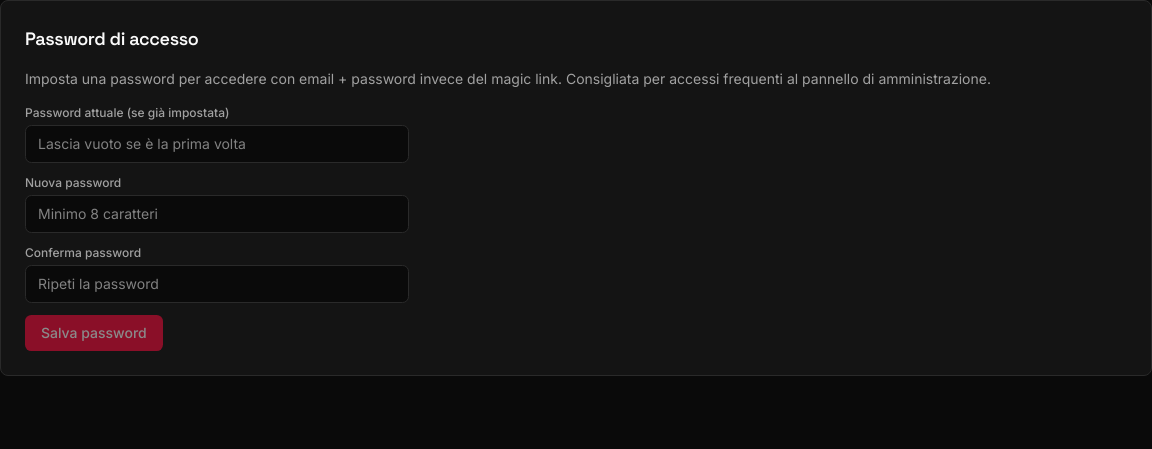
PasswordSetup › shows error message from API on failure
The image size is (1152, 449).
In the password field with placeholder "Minimo 8 caratteri": {"x": 217, "y": 214} x1=25 y1=195 x2=409 y2=233, type "newpassword123"
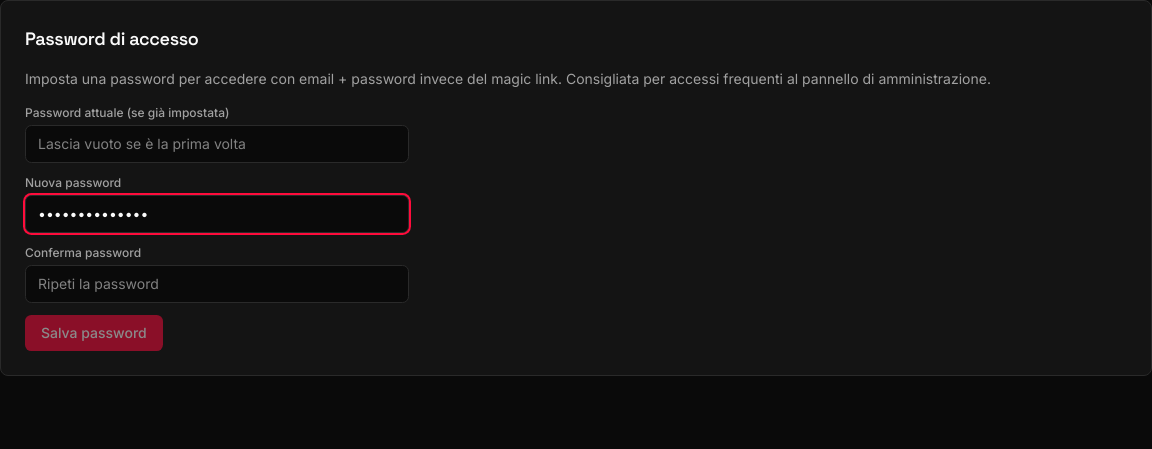
In the password field with placeholder "Ripeti la password": {"x": 217, "y": 284} x1=25 y1=265 x2=409 y2=303, type "newpassword123"
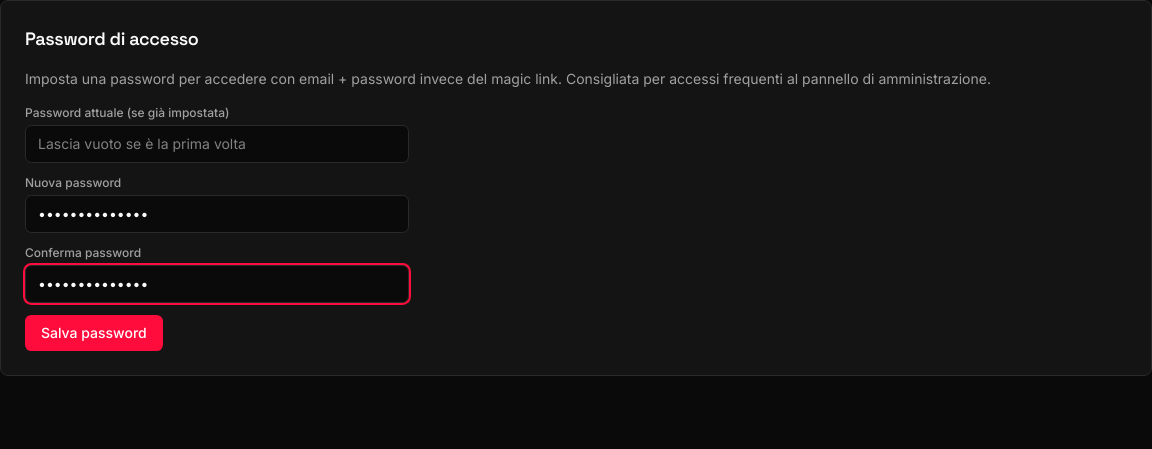
Click the button "Salva password": {"x": 94, "y": 333} x1=25 y1=315 x2=163 y2=351
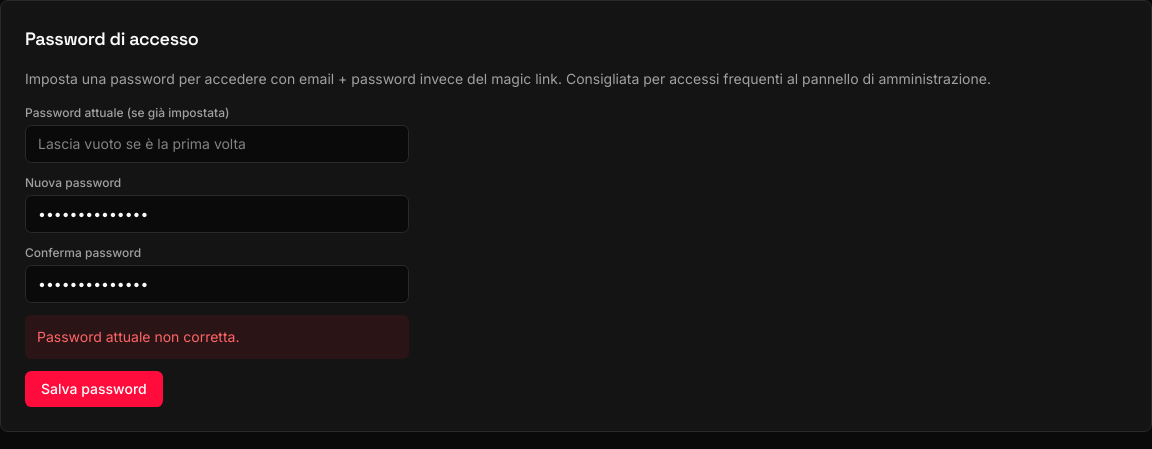
Expected: the text "Password attuale non corretta." is shown, x1=25 y1=315 x2=409 y2=359
